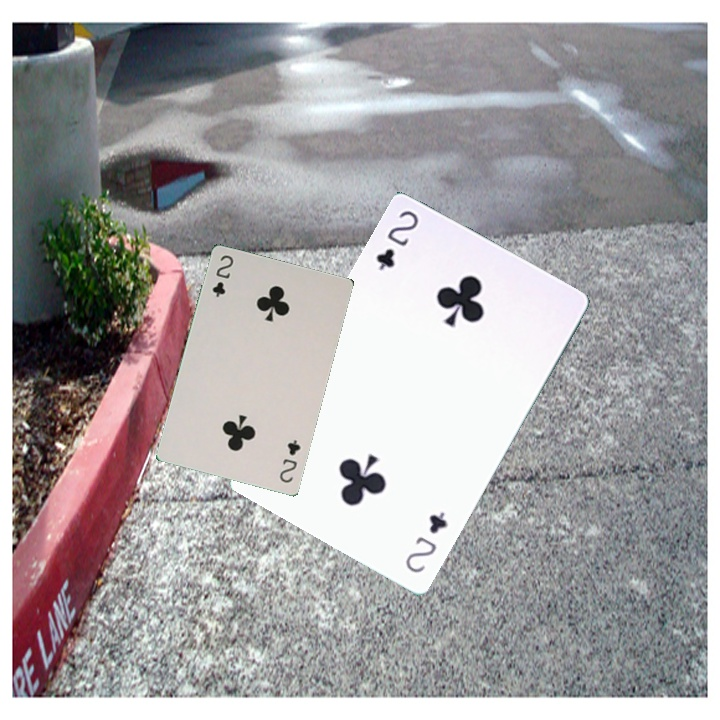2c: (401, 507, 451, 576), (372, 206, 421, 274), (275, 435, 303, 485), (208, 251, 236, 300)
